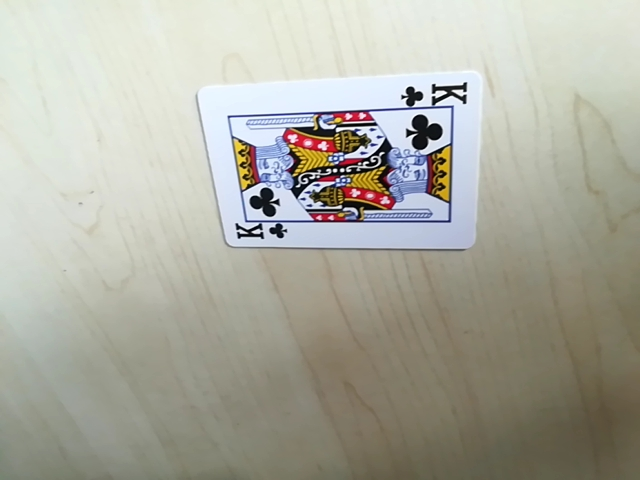mh k: (403, 79, 470, 109), (225, 219, 286, 248)
